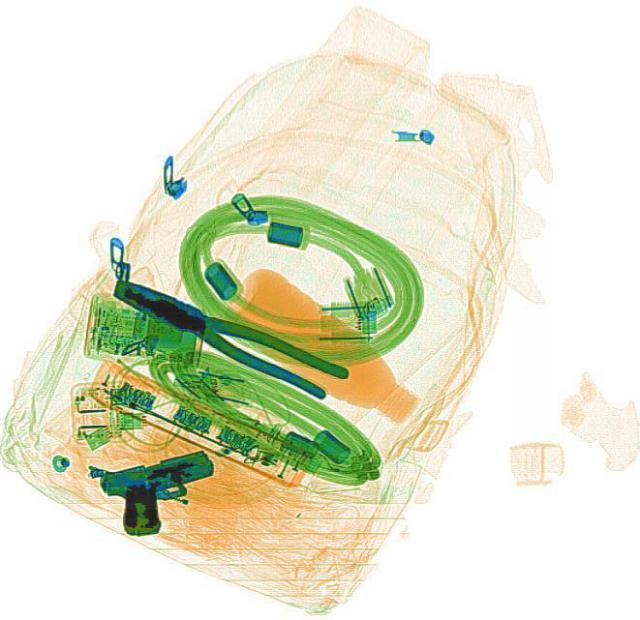Gun: (93, 445, 230, 540)
Pliers: (104, 263, 350, 403)
